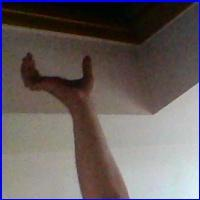space: (15, 40, 105, 103)
